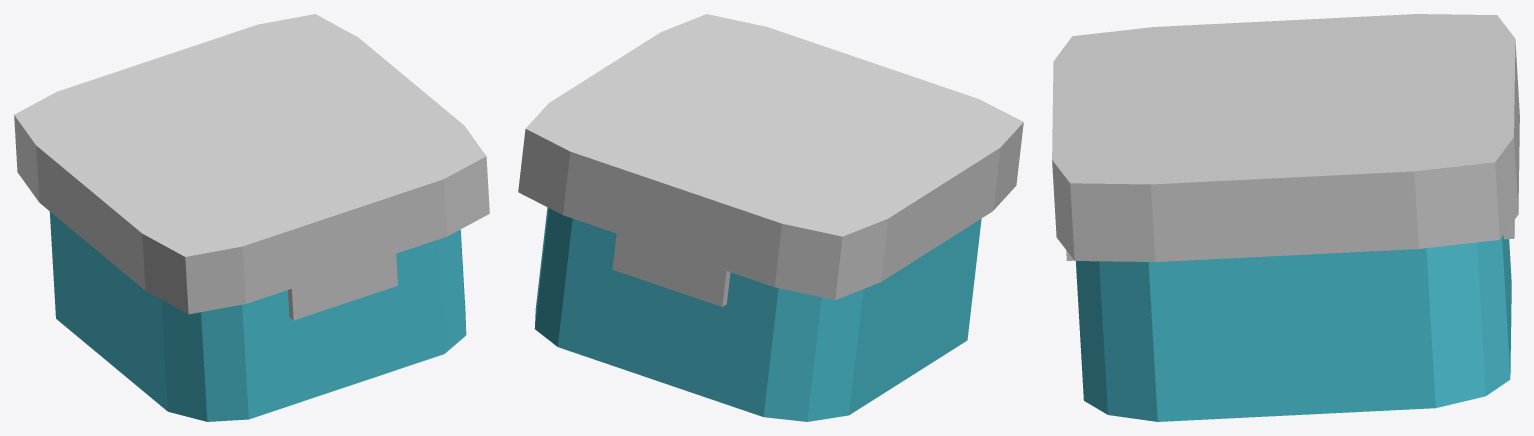
The model's file is mediumhealthkit.fbx.
The picture shows the model from 3 angles, left to right: view 1: azimuth 30°, elevation 25°; view 2: azimuth 150°, elevation 25°; view 3: azimuth 270°, elevation 25°; orthographic projection. The views are drawn at different scales.
Visible parts, largest first — view 1: Cube; view 2: Cube; view 3: Cube.
Part boxes in pixels (box(x1,y1,x2,y2)): Cube: box(14, 14, 489, 421); Cube: box(518, 14, 1023, 421); Cube: box(1052, 14, 1519, 421).
Bounding box in the file's own units: 219 × 148 × 219.
